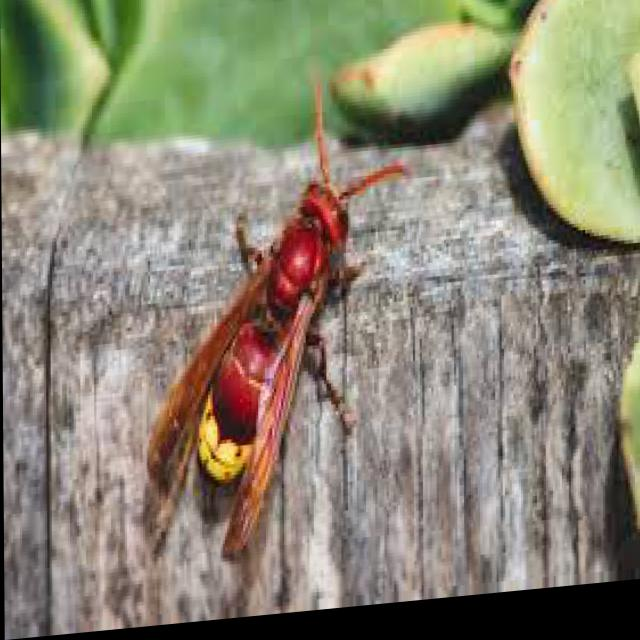Vespa Orientalis: (121, 62, 423, 598)
